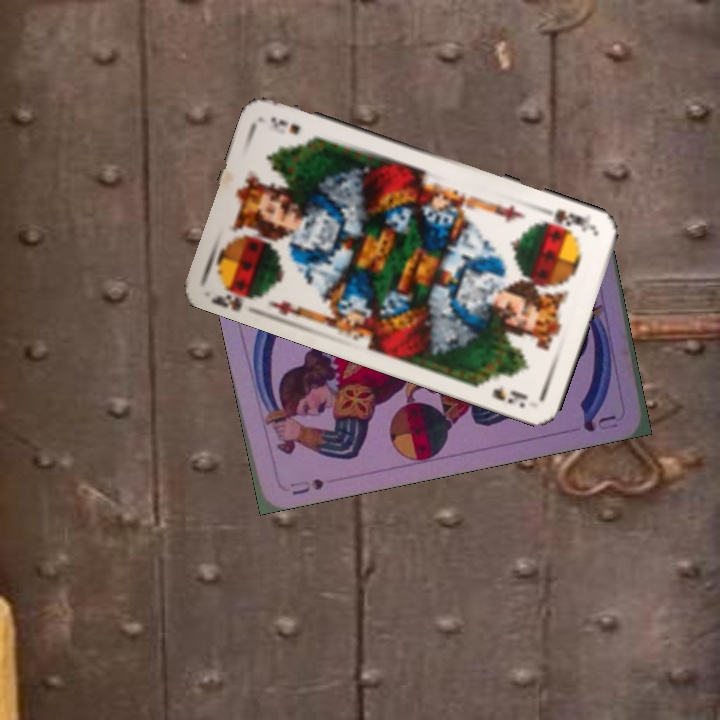SK: (537, 203, 597, 238), (208, 281, 265, 314)
SU: (288, 474, 327, 497)
